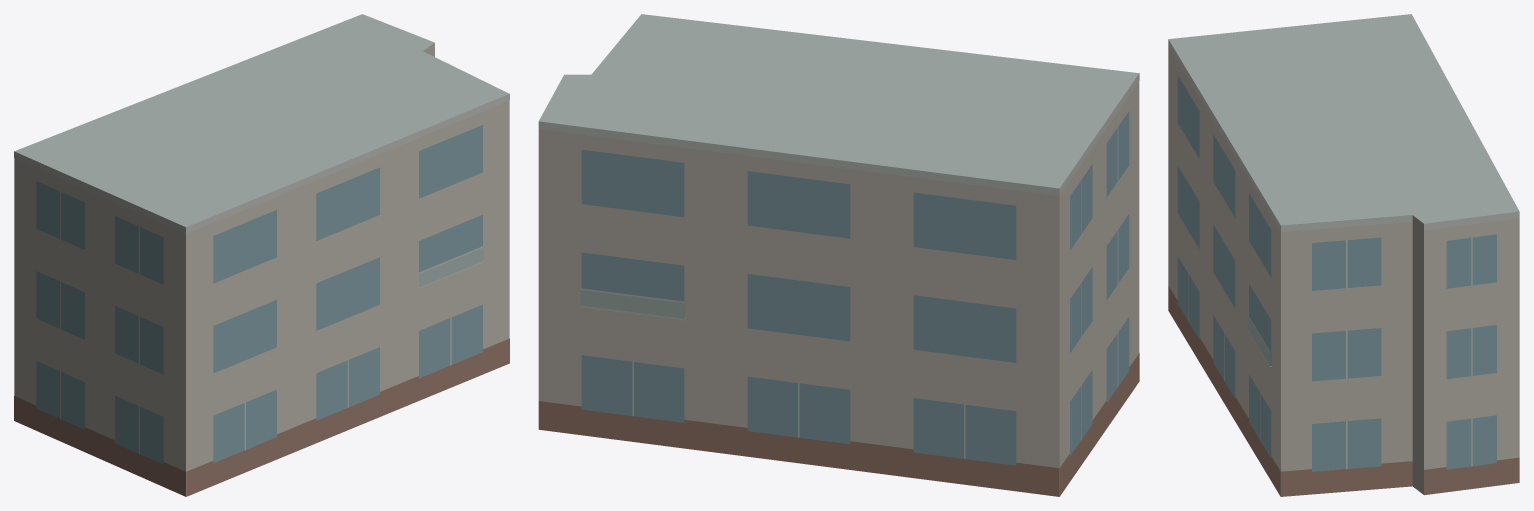
The model's file is survey-upis-32640466.glb.
The picture shows the model from 3 angles, left to right: view 1: azimuth 30°, elevation 25°; view 2: azimuth 150°, elevation 25°; view 3: azimuth 270°, elevation 25°; orthographic projection. The views are drawn at different scales.
Visible parts, largest first — view 1: survey-upis-32640466.tmp; view 2: survey-upis-32640466.tmp; view 3: survey-upis-32640466.tmp.
Boxes of the visible parts, x1,y1,x2,y2 form: survey-upis-32640466.tmp: [14, 14, 509, 496]; survey-upis-32640466.tmp: [538, 14, 1139, 496]; survey-upis-32640466.tmp: [1168, 14, 1519, 496].
Bounding box in the file's own units: 16.56 × 9.9 × 11.63.
